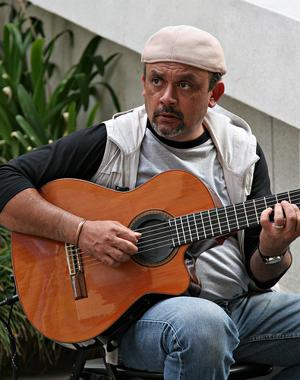person: (2, 25, 300, 380)
